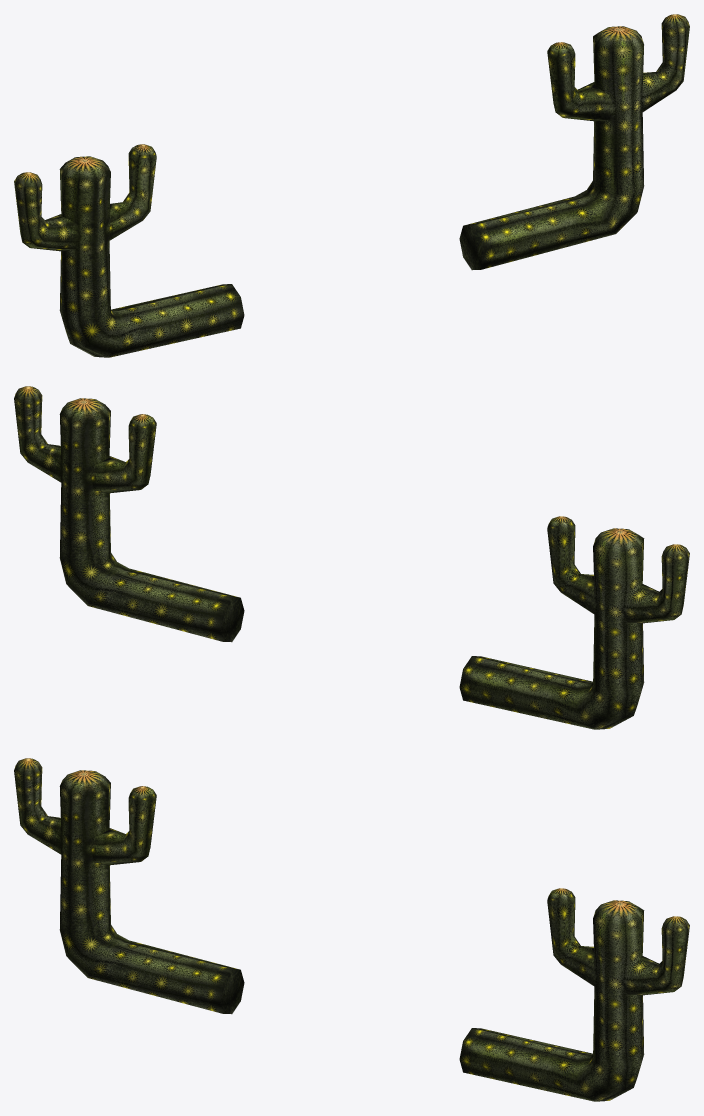
The model's file is HEAD_CACTUS.fbx.
The picture shows the model from 3 angles, top to bottom: view 1: azimuth 30°, elevation 25°; view 2: azimuth 150°, elevation 25°; view 3: azimuth 330°, elevation 25°; orthographic projection.
Visible parts, largest first — view 1: HEAD_CACTUS; view 2: HEAD_CACTUS; view 3: HEAD_CACTUS.
Boxes of the visible parts, x1,y1,x2,y2 form: HEAD_CACTUS: [14, 14, 689, 357]; HEAD_CACTUS: [14, 386, 689, 729]; HEAD_CACTUS: [14, 758, 689, 1101].
Bounding box in the file's own units: 0.0293 × 0.00855 × 0.00223.
